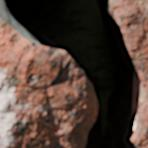broken_brick: (0, 17, 94, 147), (108, 0, 147, 147)
crack: (2, 0, 146, 147)
